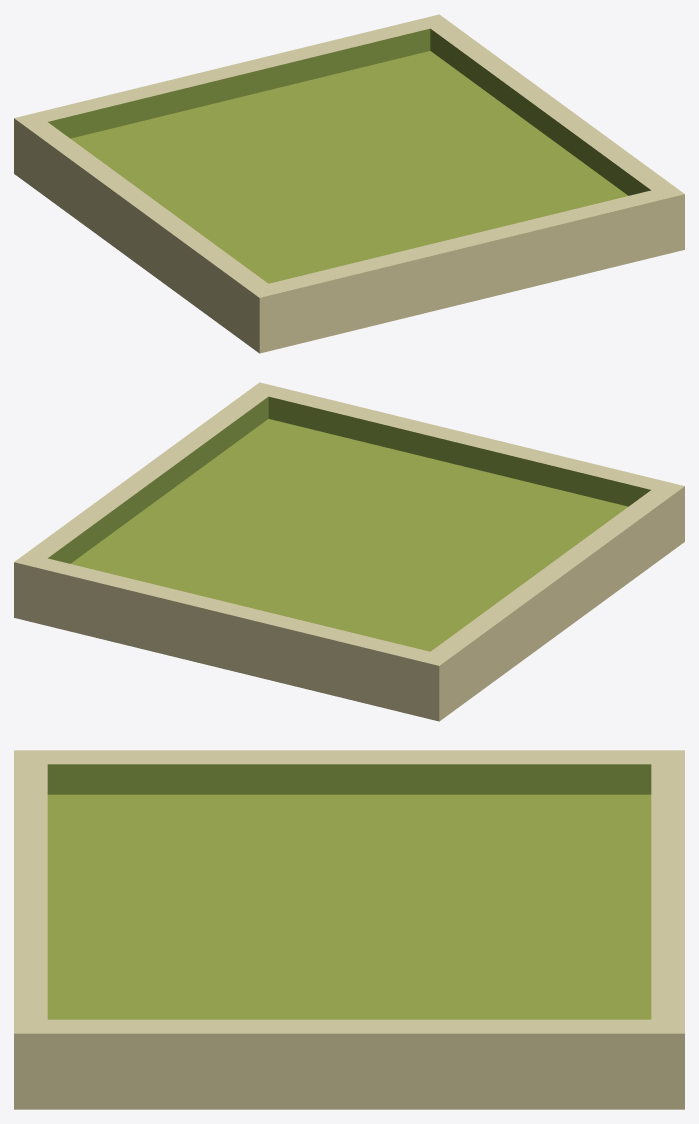
The model's file is hedge-cube-low.fbx.
The picture shows the model from 3 angles, top to bottom: view 1: azimuth 30°, elevation 25°; view 2: azimuth 150°, elevation 25°; view 3: azimuth 270°, elevation 25°; orthographic projection. The views are drawn at different scales.
Parts seen in each view (by area): view 1: hedge-cube-low; view 2: hedge-cube-low; view 3: hedge-cube-low.
Part boxes in pixels (x1,y1,x2,y2): hedge-cube-low: [14, 14, 684, 353]; hedge-cube-low: [14, 382, 684, 721]; hedge-cube-low: [14, 750, 684, 1109].
Size of the model in its own units: 200 by 25 by 200.
